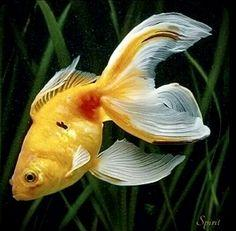goldfish: (3, 65, 197, 209)
